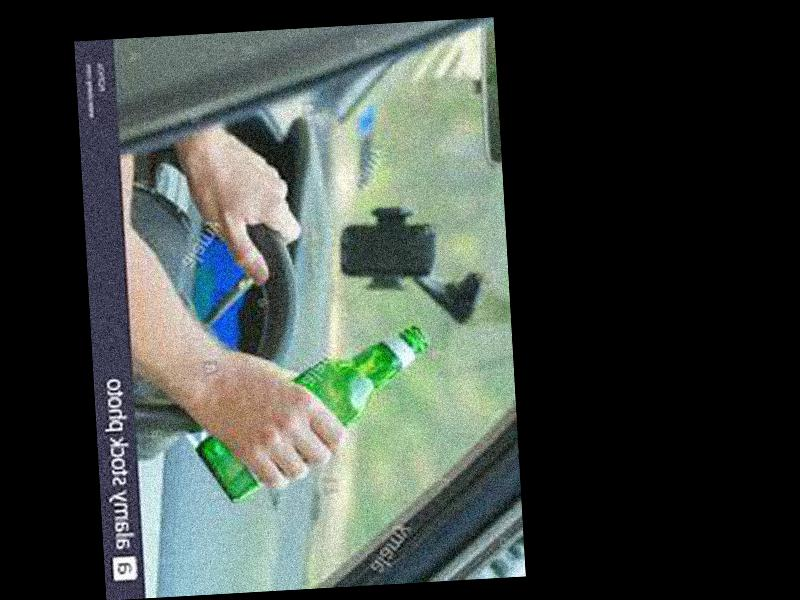Beer: (187, 327, 432, 498)
